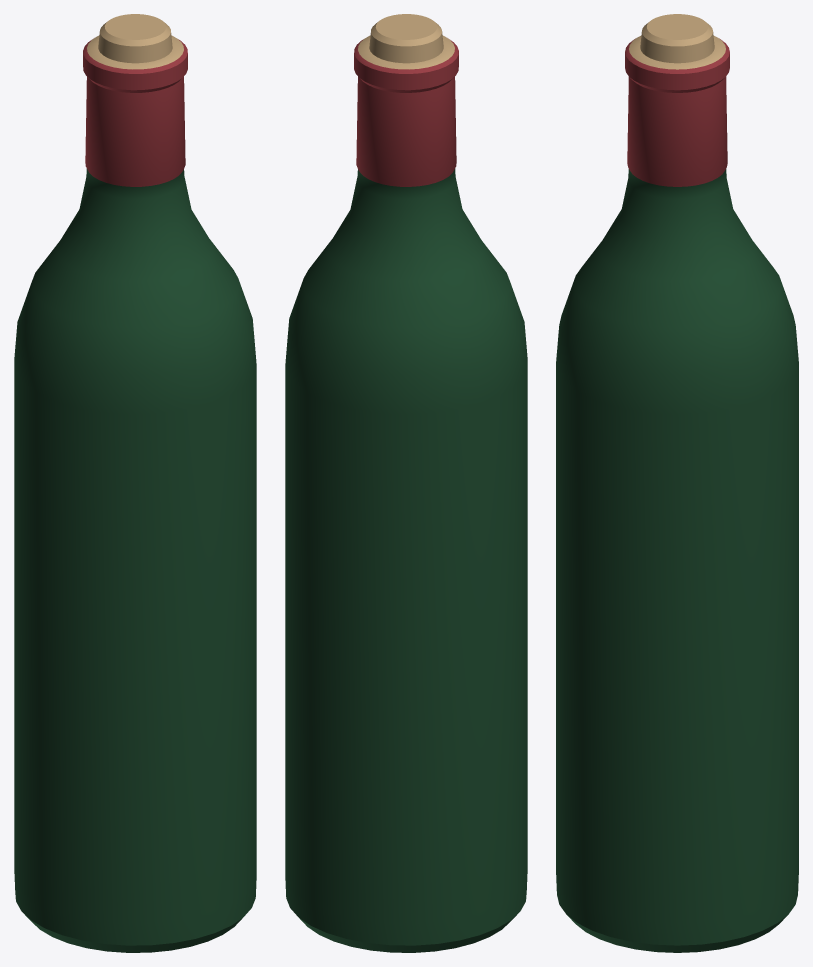
File: Bottle.fbx
3 views of the same model, side by side, from view 1: azimuth 30°, elevation 25°; view 2: azimuth 150°, elevation 25°; view 3: azimuth 270°, elevation 25° (orthographic).
Visible parts, largest first — view 1: Bottle_Mesh; view 2: Bottle_Mesh; view 3: Bottle_Mesh.
Boxes of the visible parts, bbox=[...] form: Bottle_Mesh: bbox=[14, 14, 256, 952]; Bottle_Mesh: bbox=[285, 14, 527, 952]; Bottle_Mesh: bbox=[556, 14, 798, 952].
Size of the model in its own units: 0.075 by 0.2995 by 0.075.
